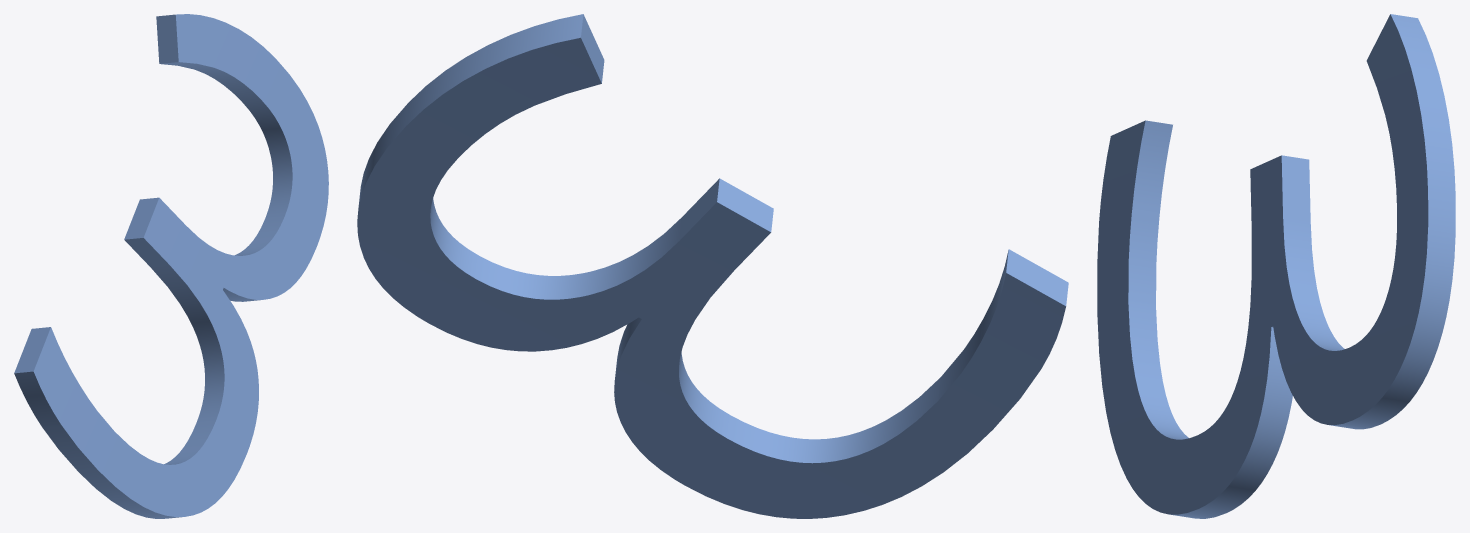
The model's file is New_Number_3.gltf.
3 views of the same model, side by side, from view 1: azimuth 30°, elevation 25°; view 2: azimuth 150°, elevation 25°; view 3: azimuth 270°, elevation 25° (orthographic). The views are drawn at different scales.
Parts seen in each view (by area): view 1: Part 3; view 2: Part 3; view 3: Part 3.
Part boxes in pixels (bbox=[...]): Part 3: bbox=[14, 14, 328, 518]; Part 3: bbox=[357, 14, 1068, 518]; Part 3: bbox=[1097, 14, 1455, 518].
Bounding box in the file's own units: 0.00487 × 0.00466 × 0.00281.
